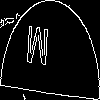M: (25, 25, 49, 75)
